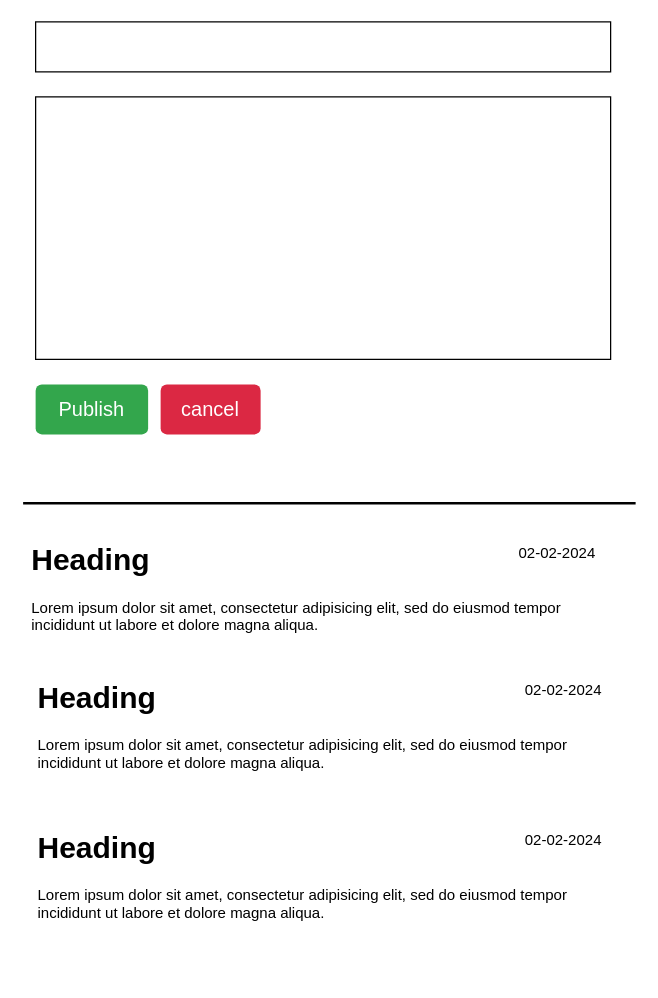
This 658x998 diagram has some shape labels left out. The shapes that lost their labels are listed below. From the top down, each one's centre as x and y in pixels, then its label:
At (x=322, y=46): "Title".
At (x=322, y=227): "Write pages".
